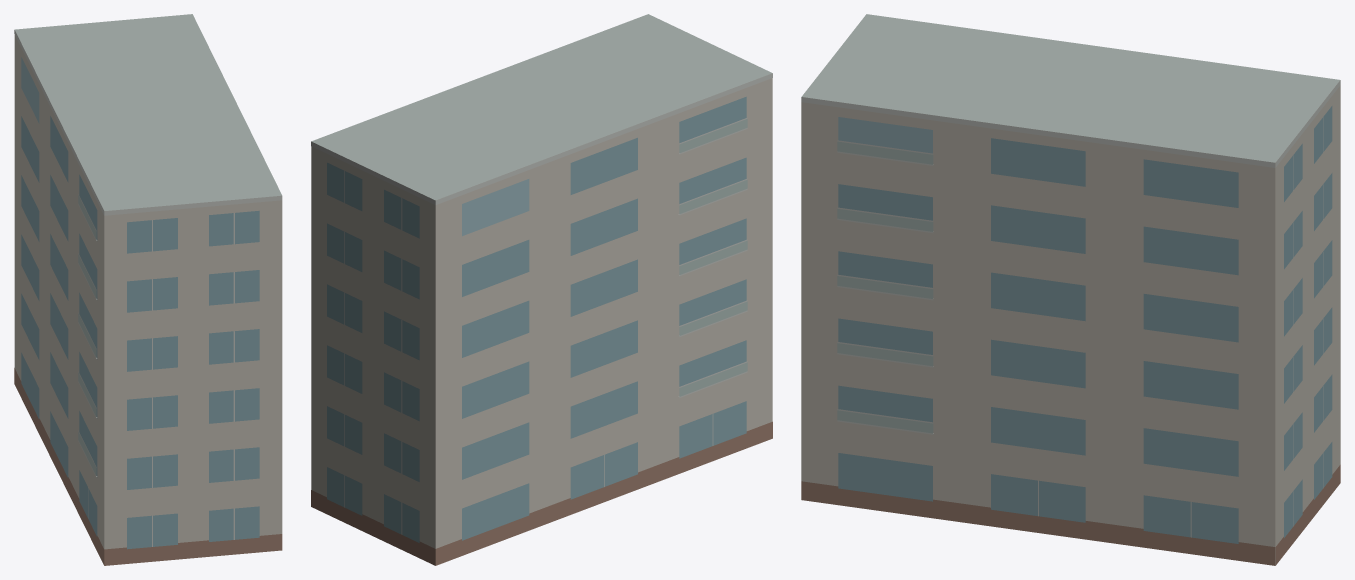
File: survey-upis-32856960.glb
3 renders of one model, left to right at view 1: azimuth 30°, elevation 25°; view 2: azimuth 150°, elevation 25°; view 3: azimuth 270°, elevation 25°, orthographic. The views are drawn at different scales.
Parts seen in each view (by area): view 1: survey-upis-32856960.tmp; view 2: survey-upis-32856960.tmp; view 3: survey-upis-32856960.tmp.
Boxes of the visible parts, box(x1,y1,x2,y2) form: survey-upis-32856960.tmp: box(14, 14, 282, 565); survey-upis-32856960.tmp: box(311, 14, 772, 565); survey-upis-32856960.tmp: box(801, 14, 1340, 565).
Bounding box in the file's own units: 14.85 × 18.75 × 22.73.
